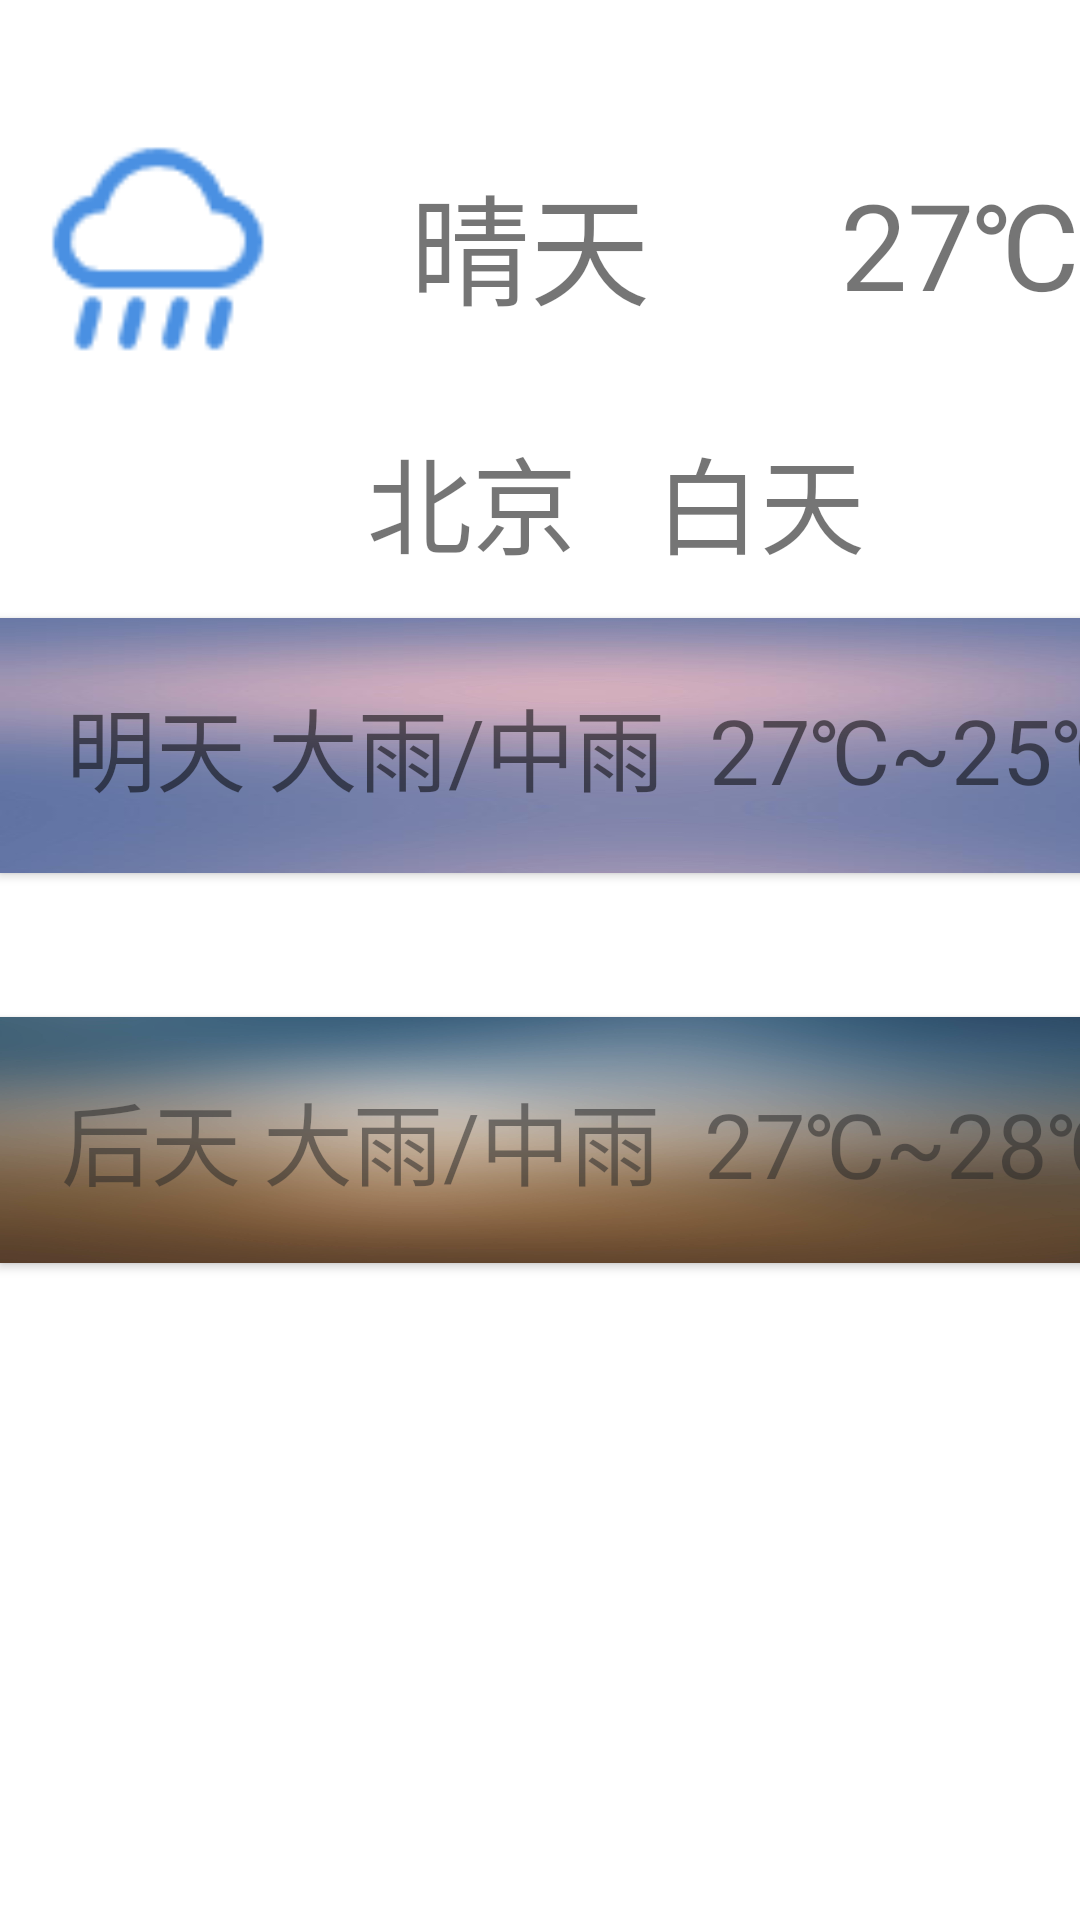

Point at icon controls on the screen. Image size 1080 × 1920, points as point (x, y).
rain: point (158, 249)
